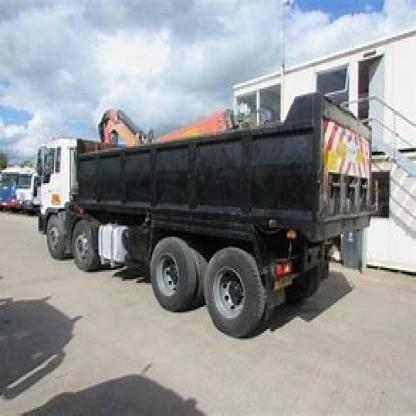dump_truck: (30, 106, 388, 336)
